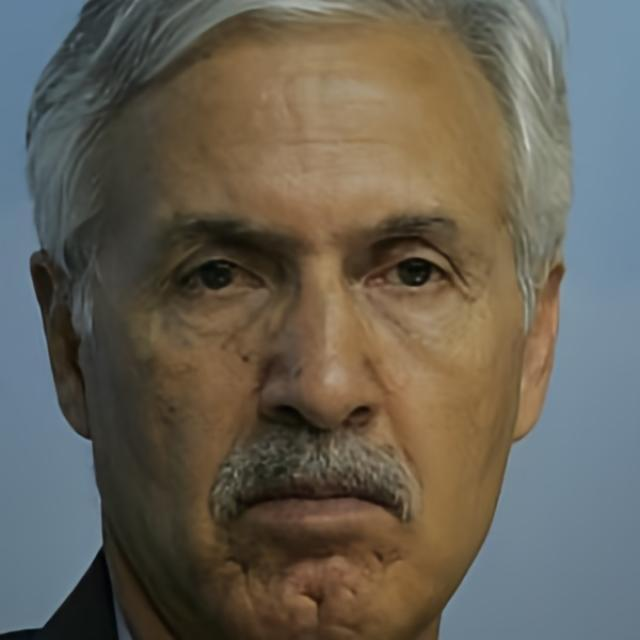anger: (87, 58, 526, 634)
